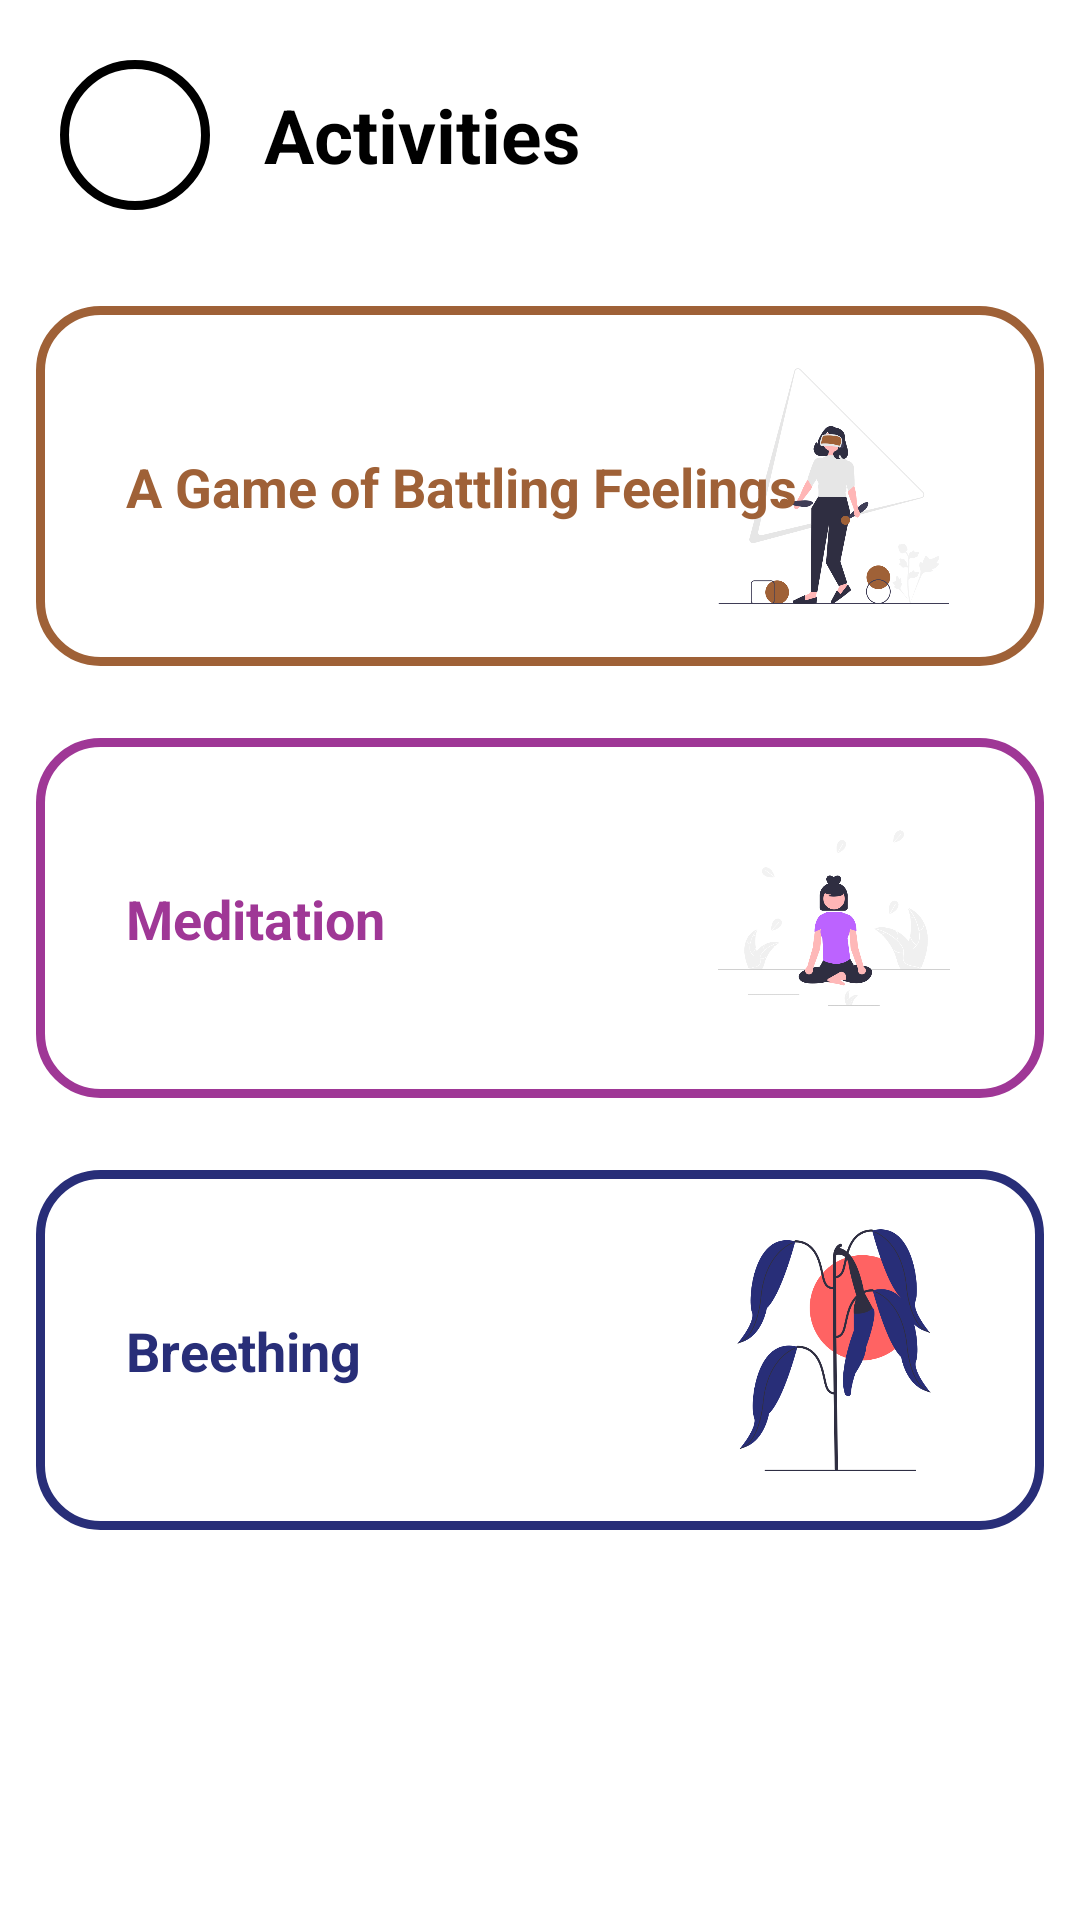

Named icons in this screenshot (1080×1920) and their centers, [x,y]:
meditation: [834,940]
